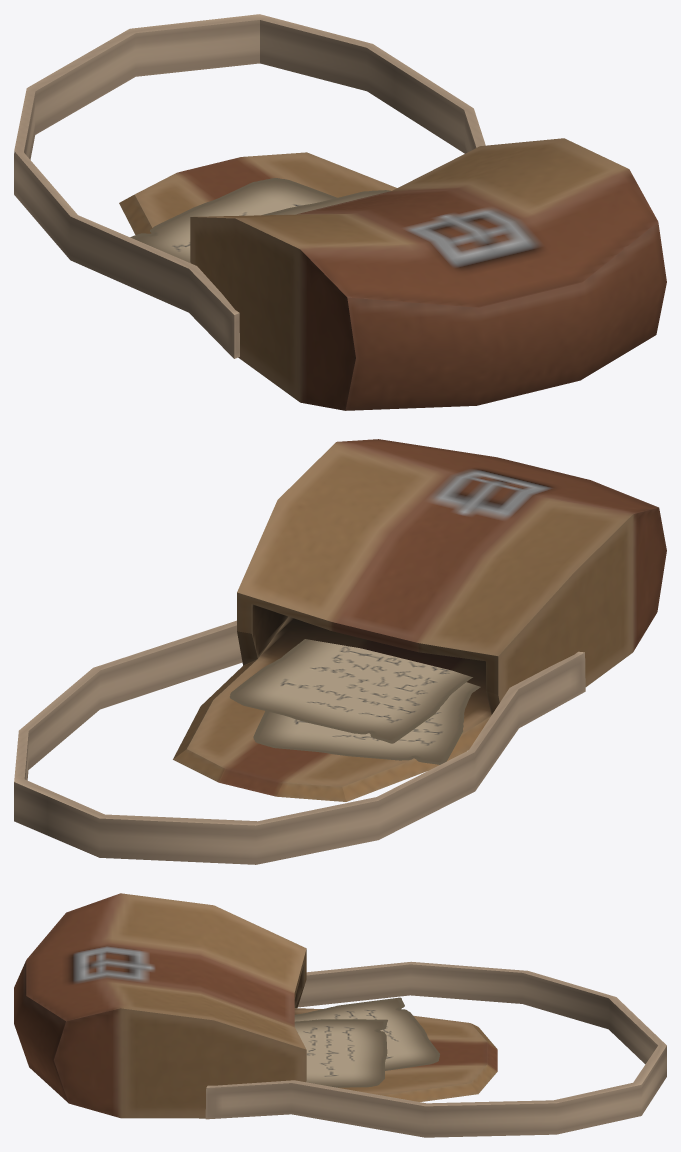
Rendered from SM_Pouch.fbx.
3 renders of one model, top to bottom at view 1: azimuth 30°, elevation 25°; view 2: azimuth 150°, elevation 25°; view 3: azimuth 270°, elevation 25°, orthographic. The views are drawn at different scales.
Visible parts, largest first — view 1: Pouch, Papers; view 2: Pouch, Papers; view 3: Pouch, Papers.
Part boxes in pixels (x1,y1,x2,y2): Pouch: (14, 14, 666, 410); Papers: (130, 178, 390, 262); Pouch: (14, 439, 666, 864); Papers: (229, 639, 480, 764); Pouch: (14, 893, 666, 1137); Papers: (294, 997, 439, 1087).
Bounding box in the file's own units: 1.81 × 0.6426 × 3.45.
